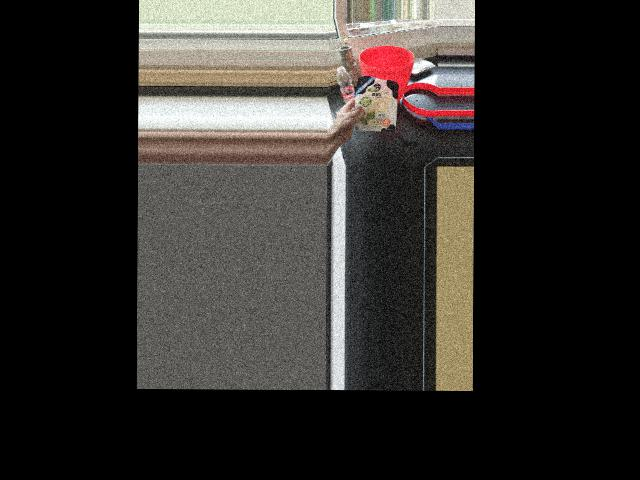cheese: (344, 75, 398, 127)
